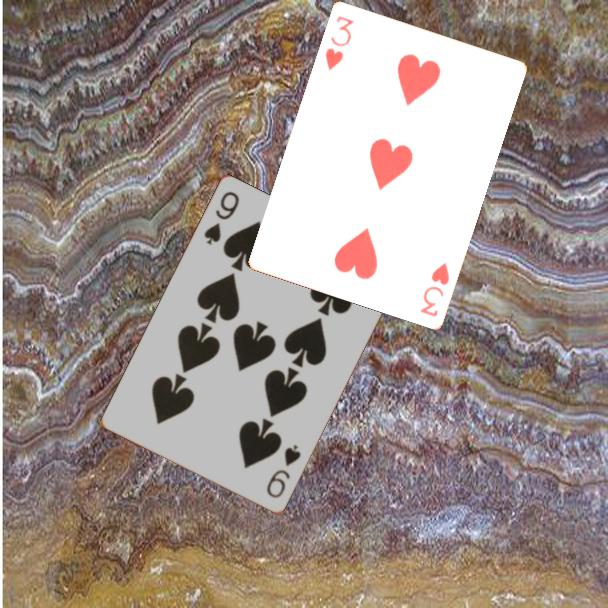h03: (321, 12, 357, 73), (416, 259, 452, 319)
s09: (200, 188, 242, 248), (263, 441, 304, 502)
